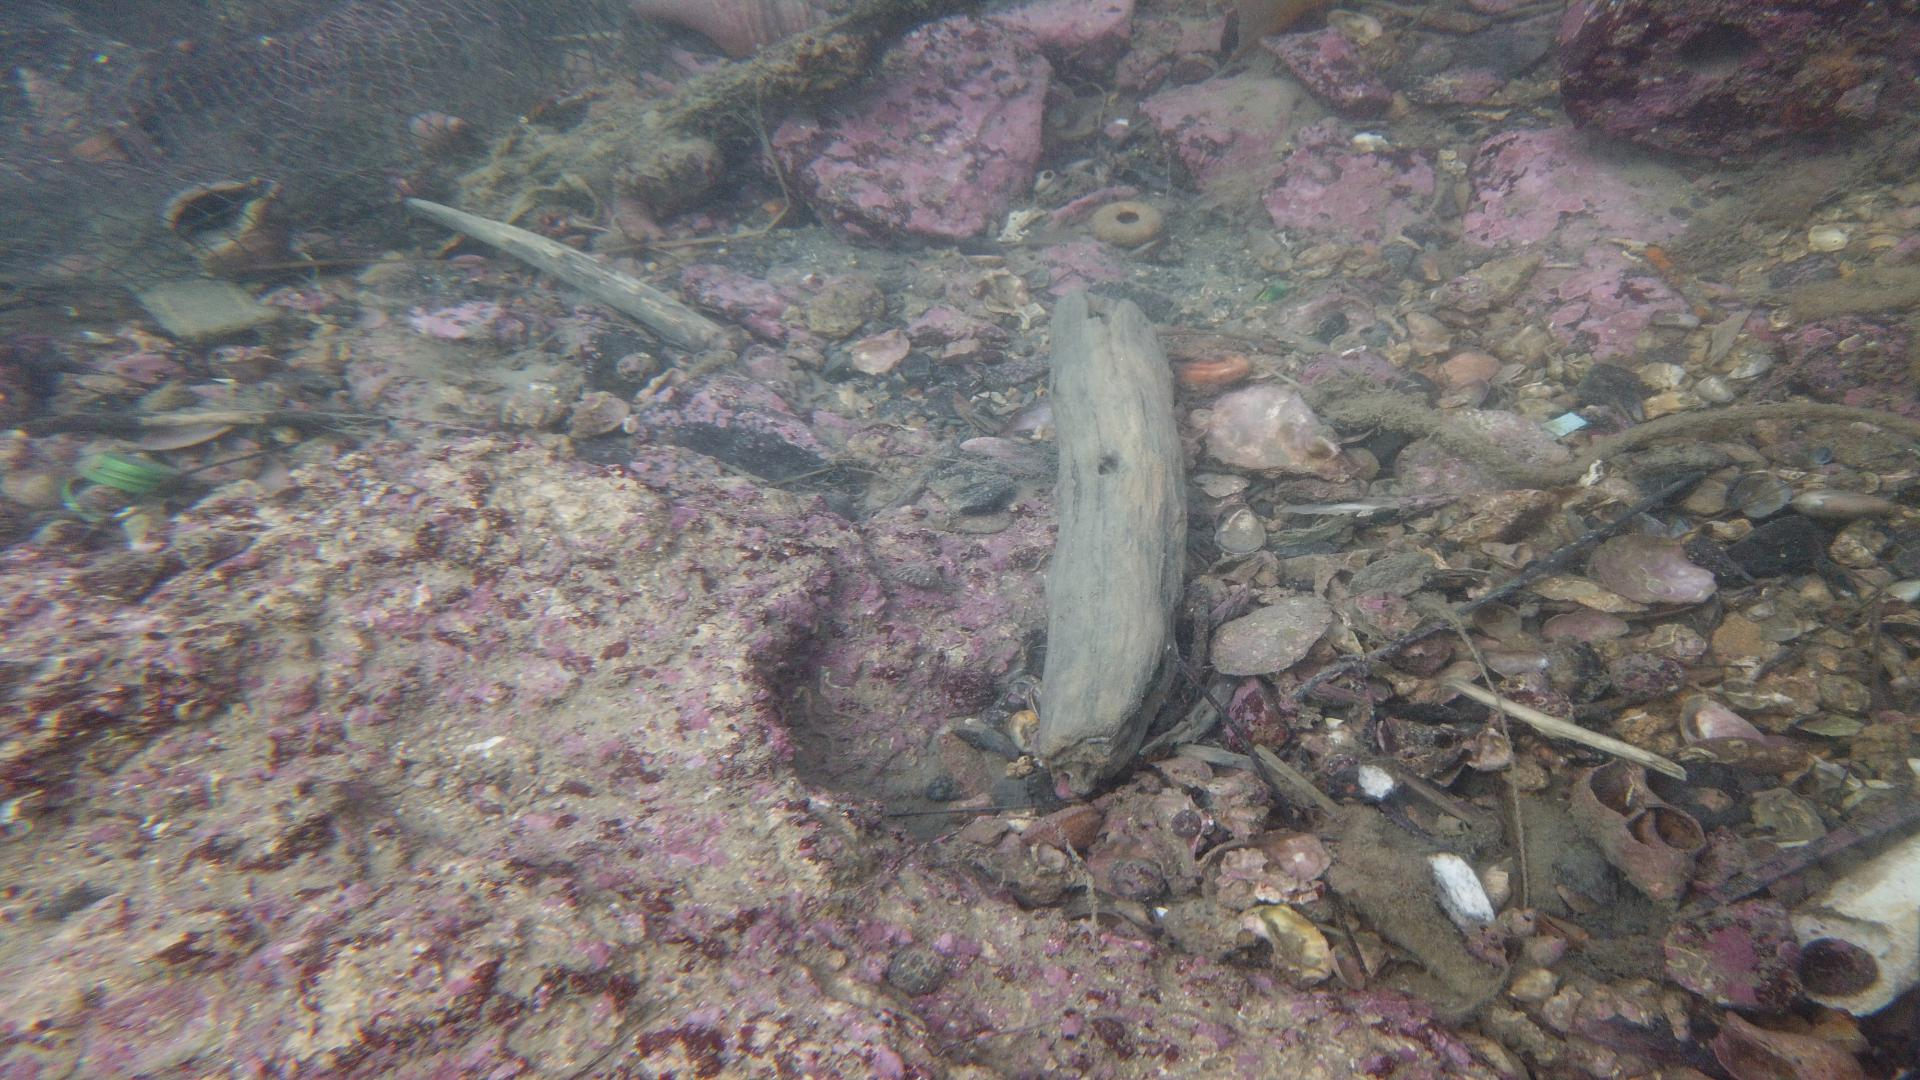fish net: (0, 0, 675, 297)
rope: (1313, 394, 1920, 483)
wood: (1035, 286, 1185, 800), (400, 196, 727, 353)
